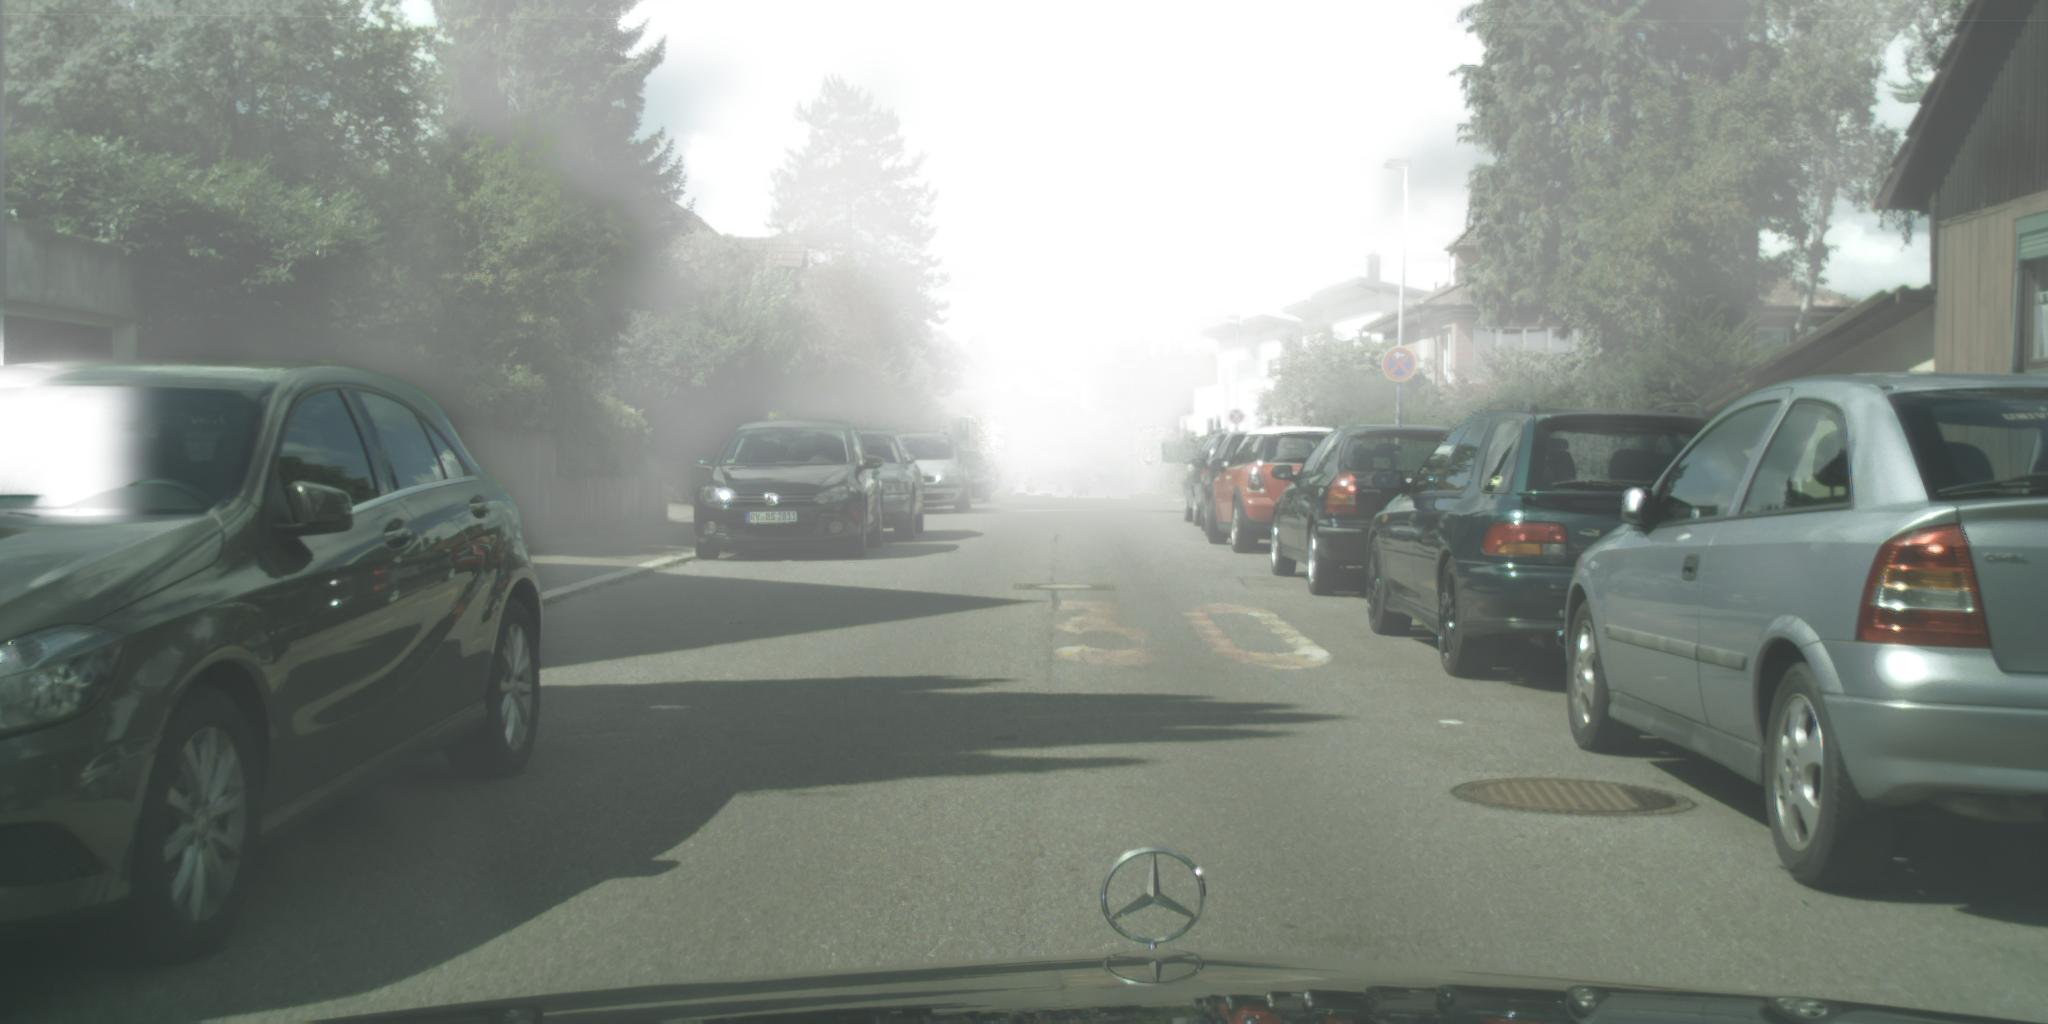car: (1, 363, 546, 968), (1563, 374, 2047, 895), (1365, 398, 1735, 679), (1271, 424, 1465, 596), (688, 421, 886, 562), (1207, 427, 1341, 555), (840, 428, 926, 543), (1183, 431, 1267, 537), (895, 434, 972, 515), (1070, 465, 1128, 500), (955, 452, 993, 503), (974, 455, 1002, 498), (1055, 468, 1085, 500), (1008, 473, 1032, 496)
